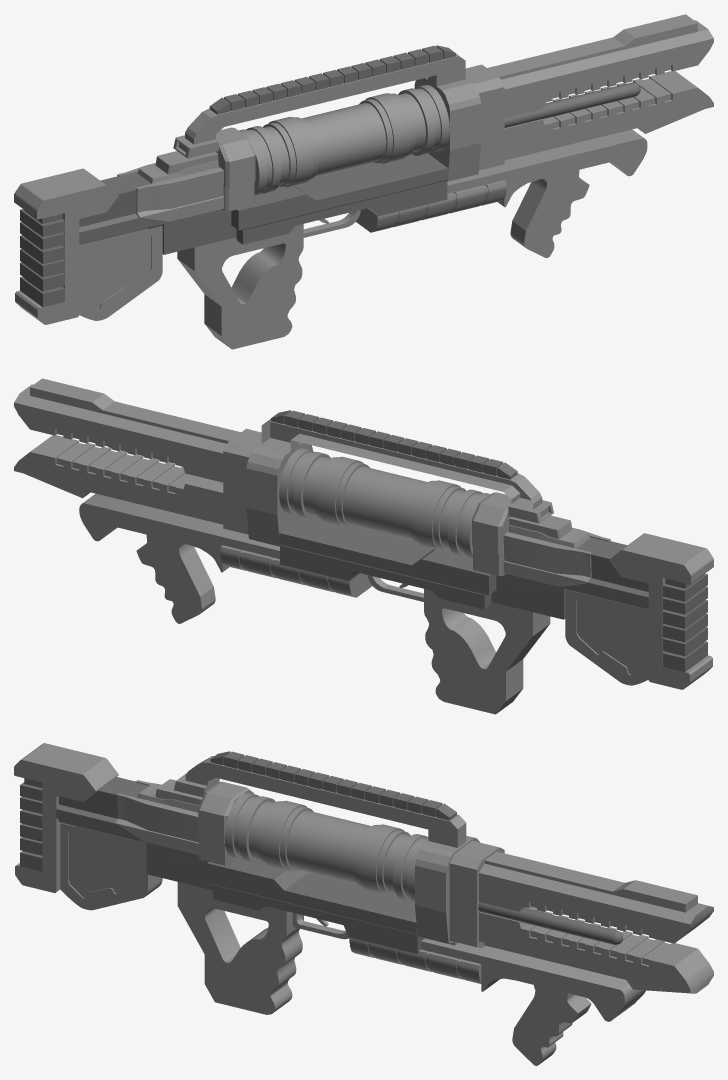
The model's file is asalto.fbx.
The picture shows the model from 3 angles, top to bottom: view 1: azimuth 30°, elevation 25°; view 2: azimuth 150°, elevation 25°; view 3: azimuth 330°, elevation 25°; orthographic projection.
Visible parts, largest first — view 1: Line006, Line008, Object001, Line001, Line004, Circle001, Line011, Line007, Line017, Box001, Object002, NGon001 (+22 smaller); view 2: Line006, Line008, Object001, Line001, Line004, Line011, Circle001, Line007, Line016, Line017, NGon001, Object002 (+21 smaller); view 3: Line006, Line008, Object001, Line004, Line001, Line011, Circle001, Object002, Line007, Line017, NGon001, Line002 (+20 smaller).
Part boxes in pixels (bbox=[...]): Line006: bbox=[148, 153, 448, 254]; Line008: bbox=[177, 224, 303, 349]; Object001: bbox=[487, 14, 713, 118]; Line001: bbox=[14, 168, 118, 324]; Line004: bbox=[79, 225, 162, 320]; Circle001: bbox=[254, 93, 425, 187]; Line011: bbox=[447, 129, 647, 207]; Line007: bbox=[185, 54, 465, 144]; Line017: bbox=[510, 170, 589, 257]; Box001: bbox=[20, 209, 64, 307]; Object002: bbox=[504, 71, 713, 160]; NGon001: bbox=[414, 77, 481, 181]; Line006: bbox=[279, 517, 579, 619]; Line008: bbox=[424, 589, 550, 714]; Object001: bbox=[14, 378, 240, 482]; Line001: bbox=[609, 533, 713, 689]; Line004: bbox=[565, 590, 648, 685]; Line011: bbox=[79, 494, 279, 572]; Circle001: bbox=[303, 457, 471, 548]; Line007: bbox=[261, 419, 542, 509]; Line016: bbox=[44, 438, 208, 498]; Line017: bbox=[136, 534, 215, 623]; NGon001: bbox=[246, 438, 312, 546]; Object002: bbox=[14, 435, 223, 524]; Line006: bbox=[146, 843, 424, 953]; Line008: bbox=[177, 882, 303, 1014]; Object001: bbox=[479, 851, 713, 943]; Line004: bbox=[60, 823, 162, 910]; Line001: bbox=[14, 743, 118, 892]; Line011: bbox=[421, 938, 645, 1021]; Circle001: bbox=[248, 801, 410, 893]; Object002: bbox=[479, 912, 713, 993]; Line007: bbox=[185, 756, 466, 847]; Line017: bbox=[512, 985, 591, 1065]; NGon001: bbox=[415, 836, 479, 945]; Line002: bbox=[115, 793, 198, 854].
Bounding box in the file's own units: 161 × 55 × 14.65.
2 materials, 1 textured.
